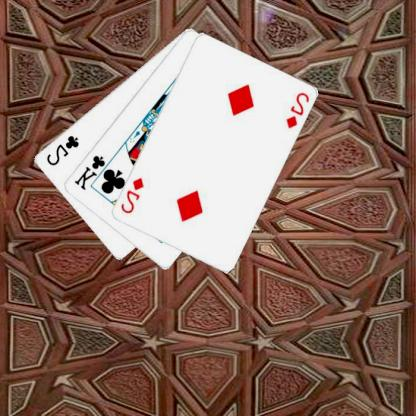2C: (45, 132, 82, 168)
2D: (119, 175, 147, 215), (285, 90, 312, 130)
KC: (73, 153, 115, 192)
